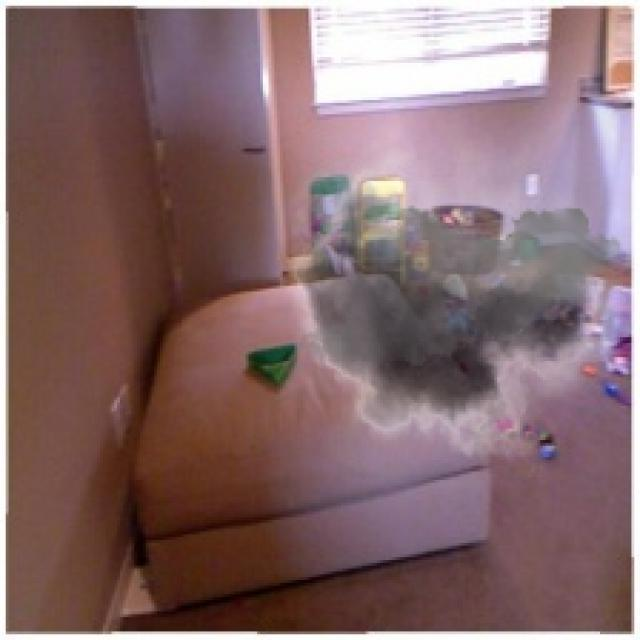Smoke: (266, 109, 626, 478)
